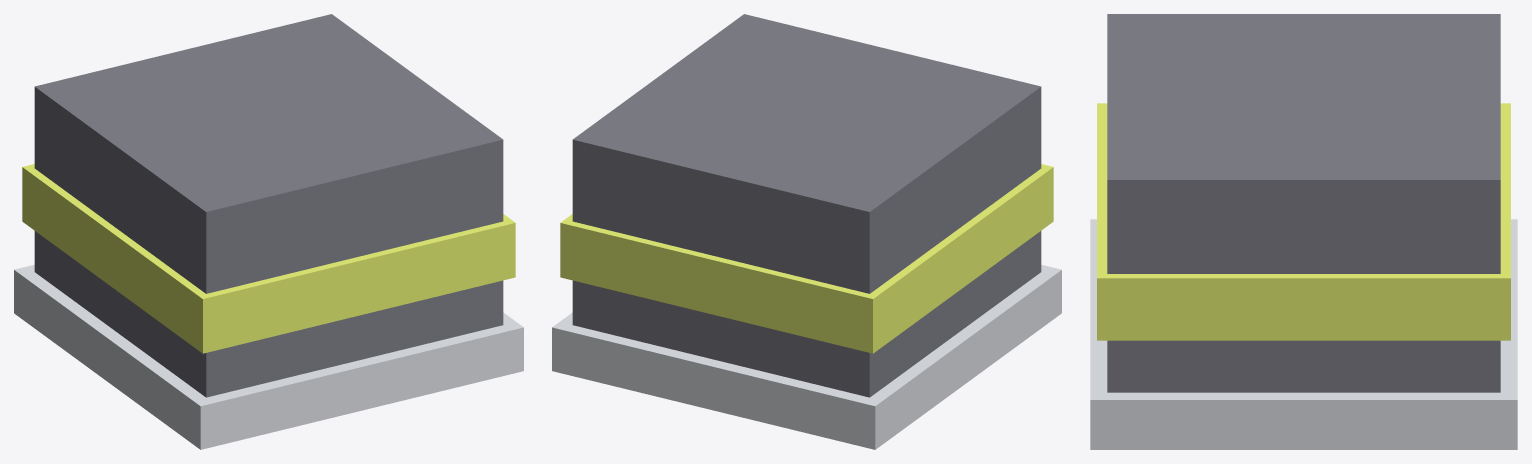
Rendered from bombeiro_resgate_manga_inf.glb.
3 renders of one model, left to right at view 1: azimuth 30°, elevation 25°; view 2: azimuth 150°, elevation 25°; view 3: azimuth 270°, elevation 25°, orthographic. The views are drawn at different scales.
Parts seen in each view (by area): view 1: bombeiro_resgate_manga_inf; view 2: bombeiro_resgate_manga_inf; view 3: bombeiro_resgate_manga_inf.
Part boxes in pixels (x1,y1,x2,y2): bombeiro_resgate_manga_inf: (14, 14, 523, 449); bombeiro_resgate_manga_inf: (552, 14, 1061, 449); bombeiro_resgate_manga_inf: (1090, 14, 1517, 449).
Bounding box in the file's own units: 0.31 × 0.21 × 0.31.
